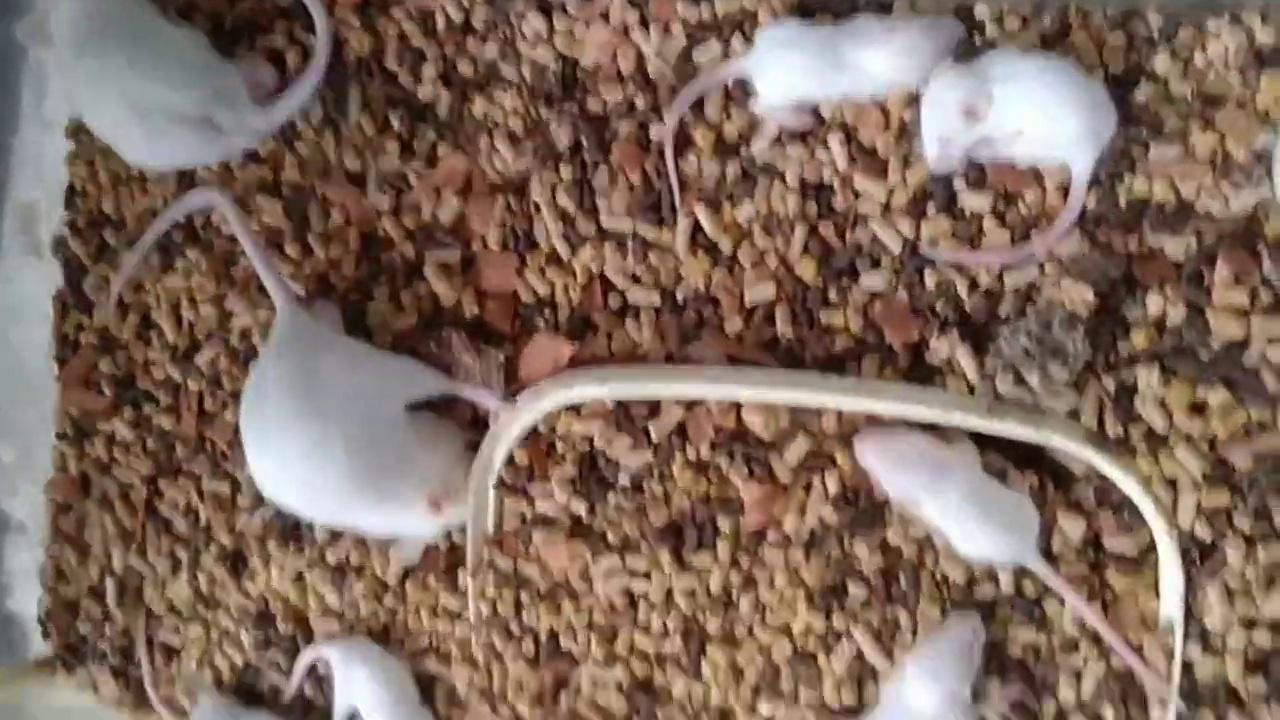rat: (108, 187, 516, 537), (854, 426, 1182, 707), (664, 15, 968, 217), (16, 0, 334, 170), (922, 45, 1119, 262), (857, 608, 987, 720)
